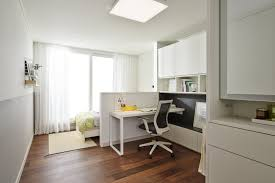Chair: (137, 100, 176, 161)
Table: (107, 106, 157, 157)
curtain: (32, 40, 74, 134), (111, 53, 140, 94)
